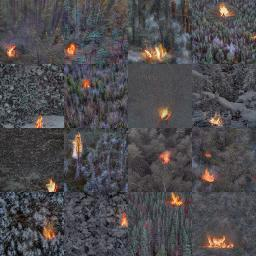Small fire: (202, 229, 239, 253), (138, 40, 172, 65), (66, 130, 89, 162), (216, 1, 243, 23), (1, 40, 24, 63), (203, 110, 229, 130), (36, 219, 58, 241), (166, 190, 187, 212), (40, 174, 63, 194), (62, 38, 84, 58), (197, 166, 220, 185), (78, 74, 99, 94), (156, 147, 176, 167), (156, 106, 175, 123), (116, 212, 133, 231), (32, 111, 48, 128), (203, 148, 217, 160)
